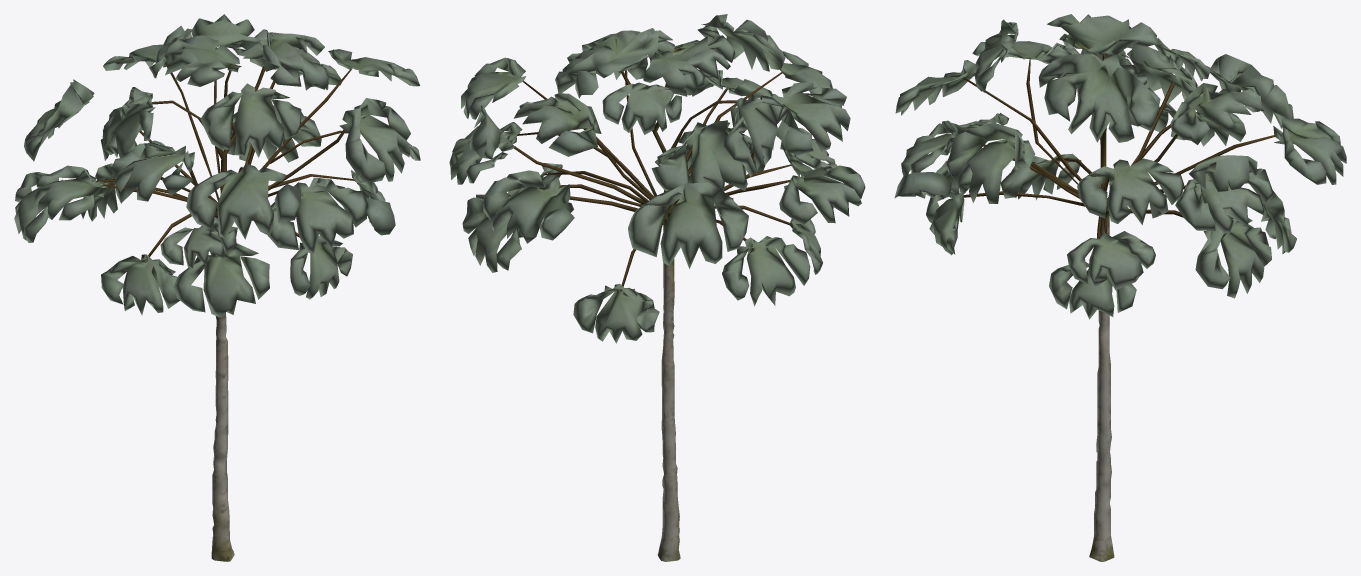
File: javaporcos_mint_embauba.glb
3 renders of one model, left to right at view 1: azimuth 30°, elevation 25°; view 2: azimuth 150°, elevation 25°; view 3: azimuth 270°, elevation 25°, orthographic. The views are drawn at different scales.
Parts seen in each view (by area): view 1: Embaúba; view 2: Embaúba; view 3: Embaúba.
Part boxes in pixels (x1,y1,x2,y2): Embaúba: (14,14,420,561); Embaúba: (449,14,865,561); Embaúba: (894,14,1346,561).
Size of the model in its own units: 6.18 by 8 by 6.28.
1 material, 1 textured.
